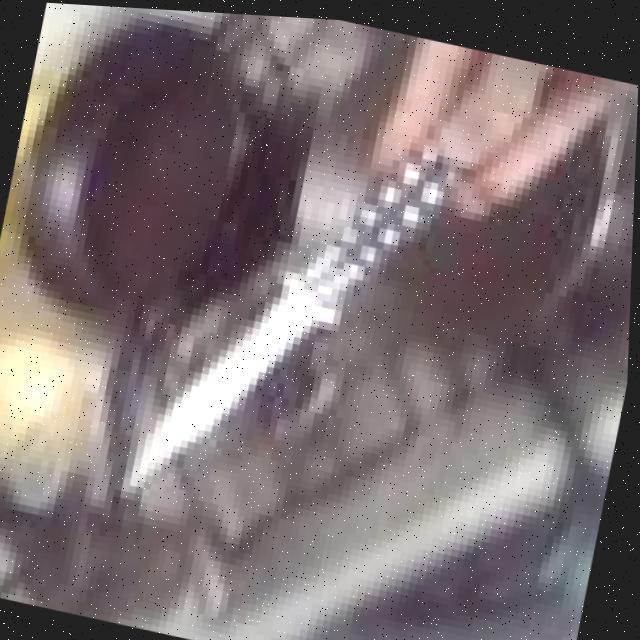knife: (126, 69, 476, 544)
